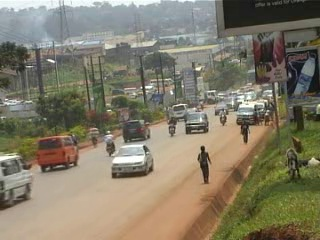Car: (108, 141, 156, 179), (121, 117, 152, 145), (183, 111, 210, 138), (180, 105, 202, 123), (218, 94, 239, 112), (212, 100, 232, 117)
Motorcycle: (102, 128, 117, 157), (164, 114, 179, 138), (217, 106, 229, 125)
